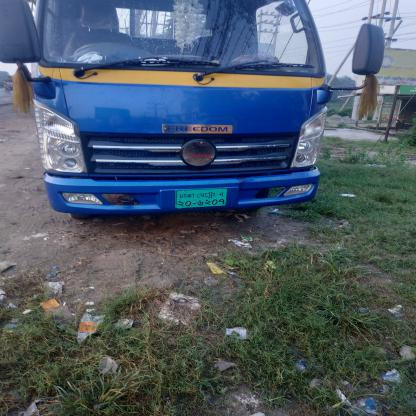license_plate: (172, 187, 238, 210)
